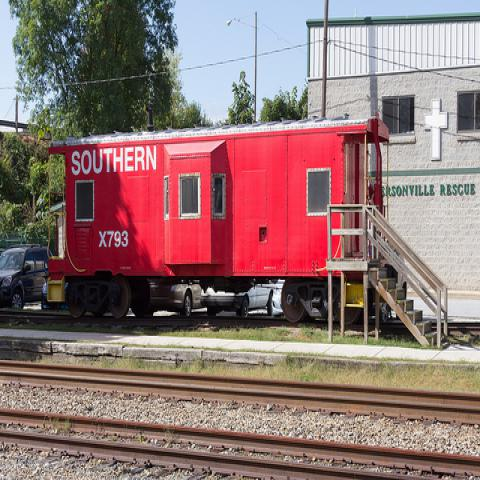car: (0, 246, 52, 315), (198, 283, 275, 320), (148, 280, 206, 319)
